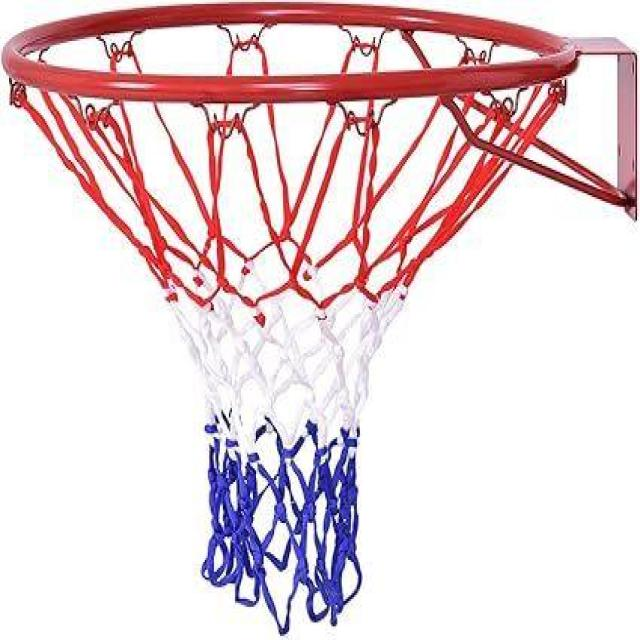hoop: (10, 4, 640, 614)
